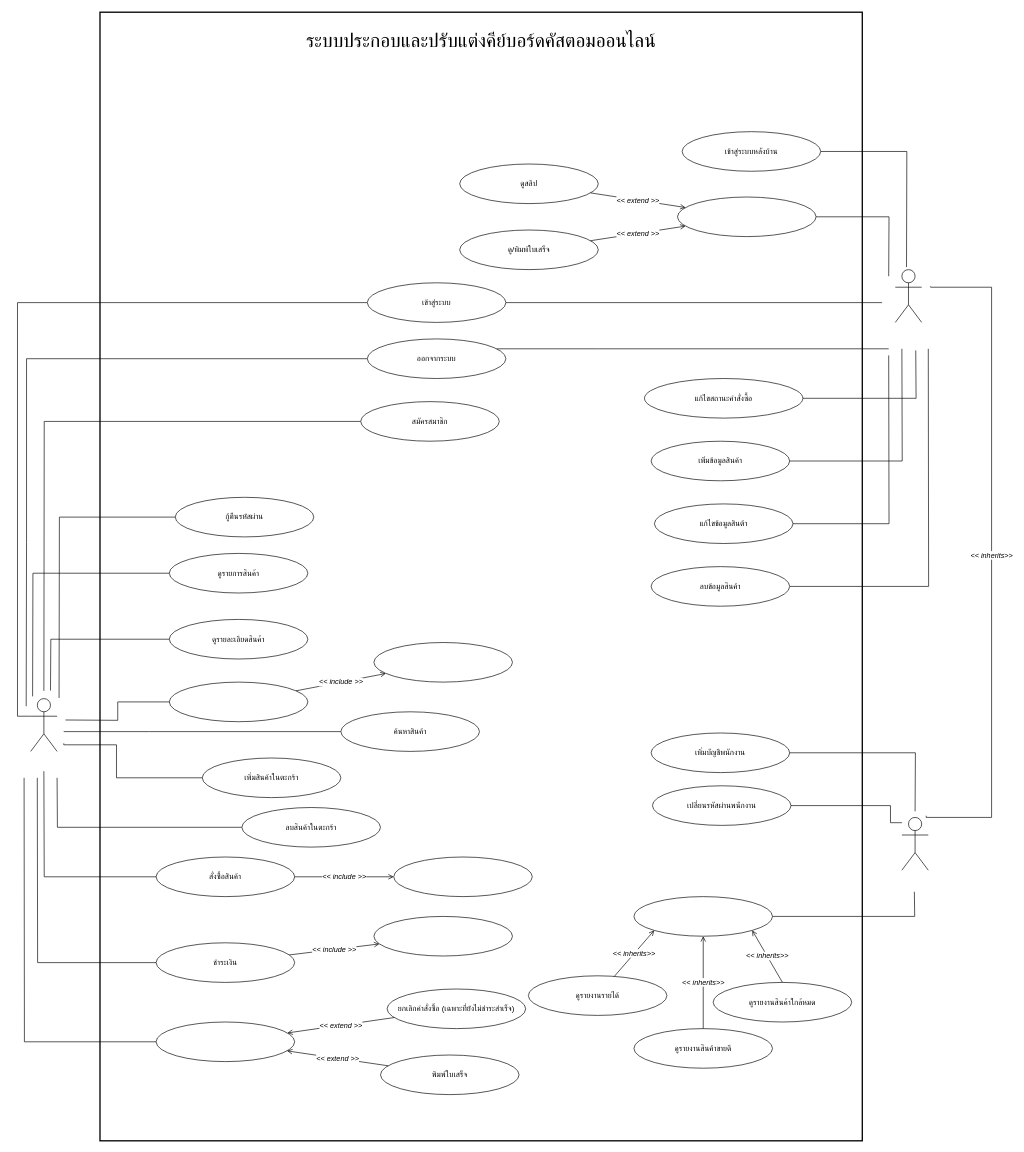
This 1024x1152 diagram has some shape labels left out. The shapes that lost their labels are listed below. From the top down, each one's centre as x and y in pixels, then its label:
At point 746,216: "ดูคำสั่งซื้อ".
At point 908,295: "พนักงาน (Staff)".
At point 442,662: "เลือกกำหนดส่วนประกอบ".
At point 238,701: "ปรับแต่งคีย์บอร์ดเอง".
At point 43,724: "ลูกค้า (Customer)".
At point 914,843: "เจ้าของร้าน (Owner/CEO)".
At point 462,876: "กรอก/ยืนยันข้อมูลจัดส่ง".
At point 442,936: "ส่งสลิป".
At point 703,916: "ดูรายงาน".
At point 225,1041: "ดู/ติดตามคำสั่งซื้อ".
